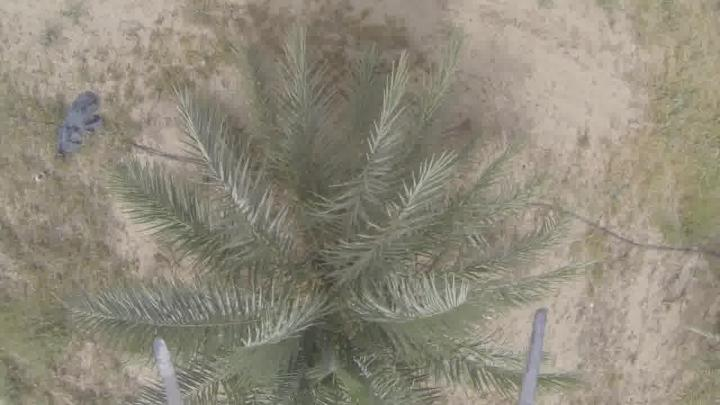Date-Palm-Crown: (156, 135, 481, 404)
